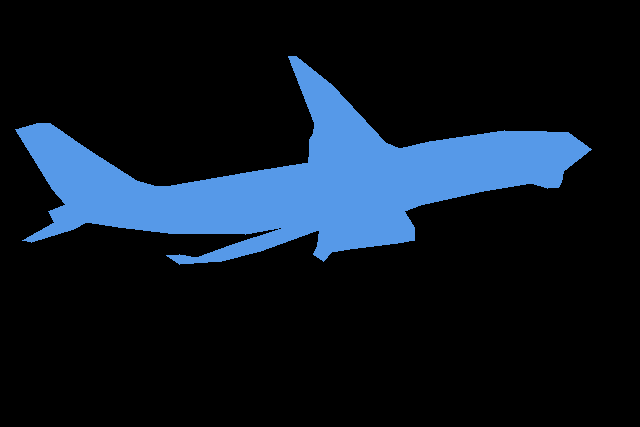Airplane: (15, 56, 591, 265)
